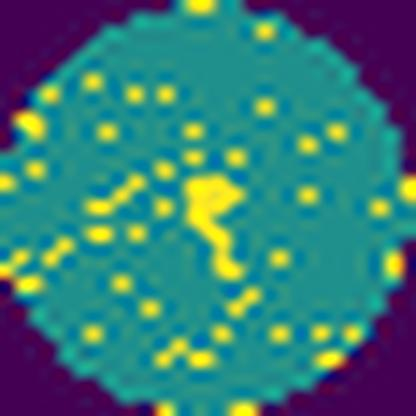Center: (182, 172, 245, 290)
